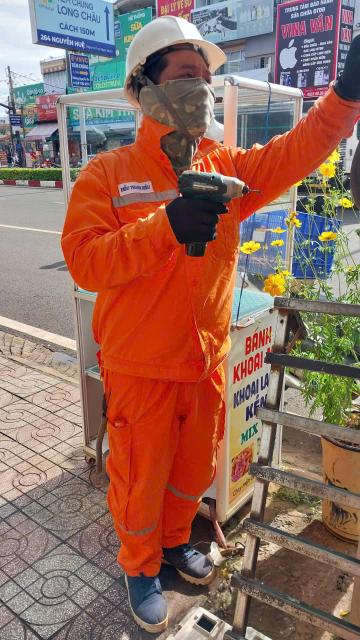gloves: (149, 190, 242, 264), (327, 18, 360, 125)
helmet: (122, 8, 229, 112)
shoes: (123, 543, 174, 637), (155, 533, 227, 592)
